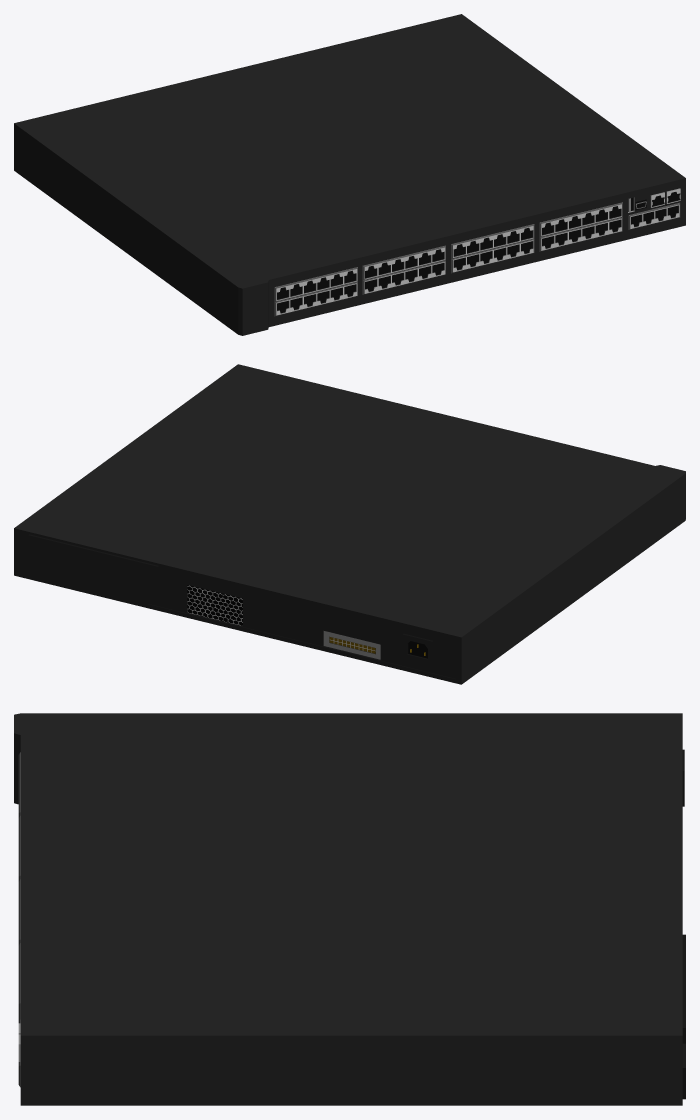
The model's file is CISCO_WS_C2960-48TS_L.fbx.
The picture shows the model from 3 angles, top to bottom: view 1: azimuth 30°, elevation 25°; view 2: azimuth 150°, elevation 25°; view 3: azimuth 270°, elevation 25°; orthographic projection. The views are drawn at different scales.
Visible parts, largest first — view 1: CISCO_WS_C2960-48TS_L; view 2: CISCO_WS_C2960-48TS_L; view 3: CISCO_WS_C2960-48TS_L.
Part boxes in pixels (bbox=[...]): CISCO_WS_C2960-48TS_L: bbox=[14, 14, 685, 335]; CISCO_WS_C2960-48TS_L: bbox=[14, 364, 685, 684]; CISCO_WS_C2960-48TS_L: bbox=[14, 713, 685, 1105].
Bounding box in the file's own units: 445 × 45 × 392.
Materials: 15 (1 with a texture image).
